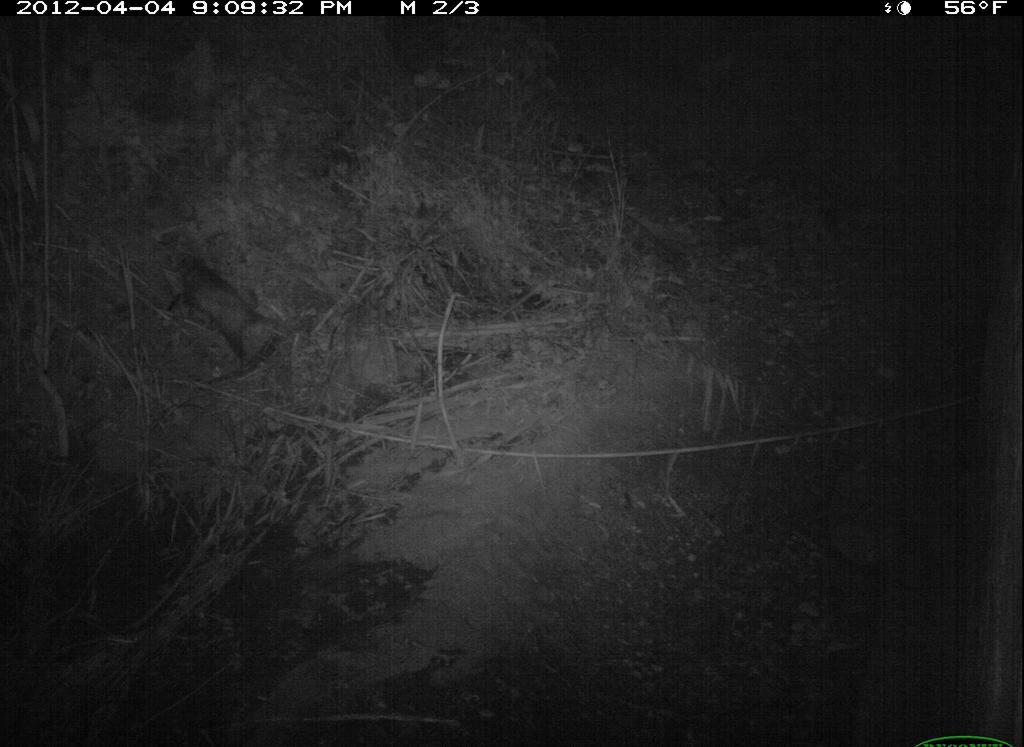opossum: (157, 233, 318, 387)
